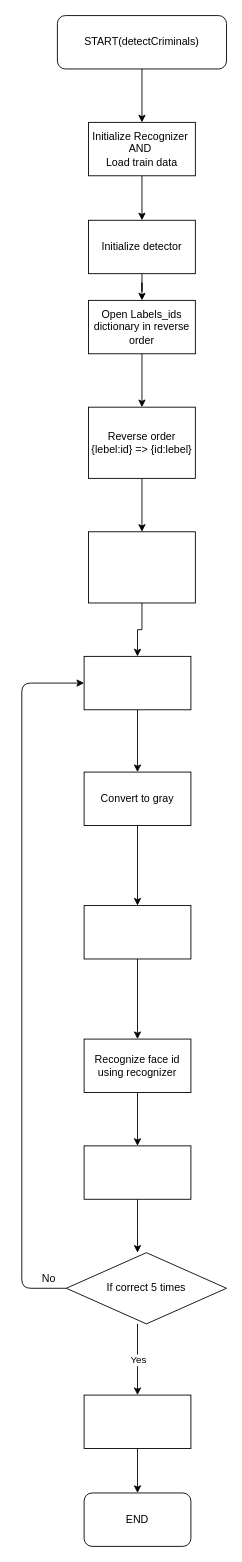
Image size: 242x1562. Some labels were removed from this diagram. Here are the shapes that lost their labels. From the top down, the box of each, then its label:
(88, 531, 195, 603): Open webcam
(83, 655, 191, 710): Read image form camera
(83, 905, 191, 959): Detect face
(83, 1145, 191, 1199): convert id to name using label_ids dictonary
(83, 1394, 191, 1448): Display name as detected AND Make attendance
